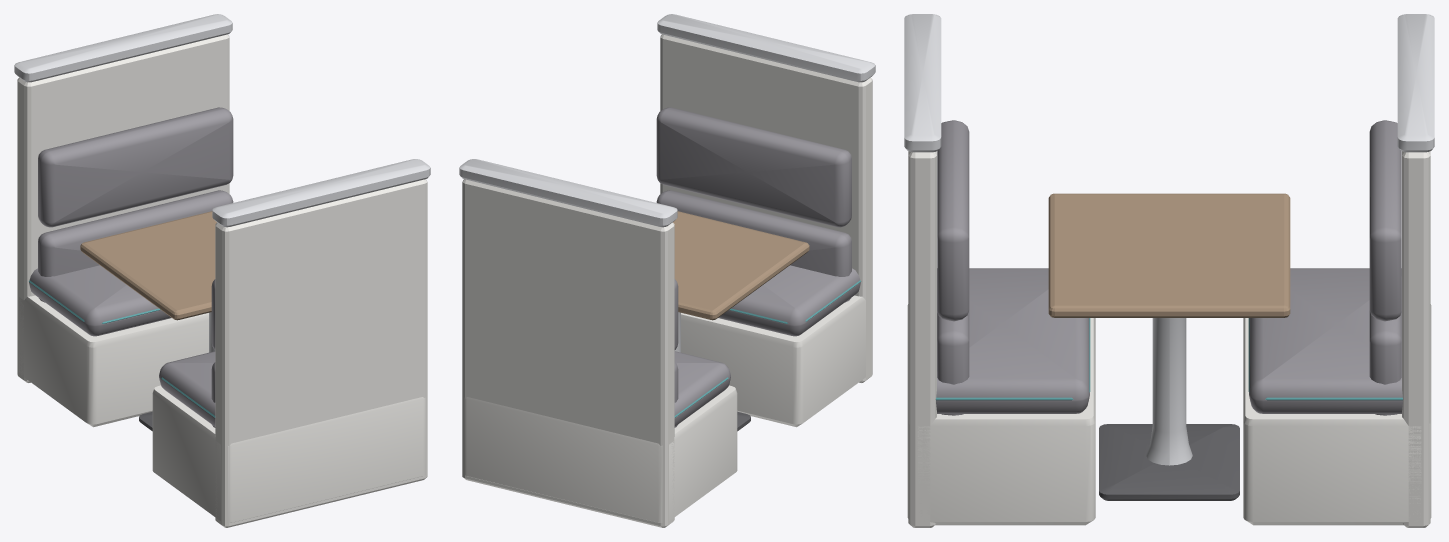
Rendered from booth.glb.
3 renders of one model, left to right at view 1: azimuth 30°, elevation 25°; view 2: azimuth 150°, elevation 25°; view 3: azimuth 270°, elevation 25°, orthographic. The views are drawn at different scales.
Parts seen in each view (by area): view 1: fixed-booth-2-seat; view 2: fixed-booth-2-seat; view 3: fixed-booth-2-seat.
Part boxes in pixels (x1,y1,x2,y2): fixed-booth-2-seat: [14, 14, 430, 527]; fixed-booth-2-seat: [459, 14, 875, 527]; fixed-booth-2-seat: [904, 14, 1434, 527].
Bounding box in the file's own units: 0.896 × 1.29 × 1.58.
